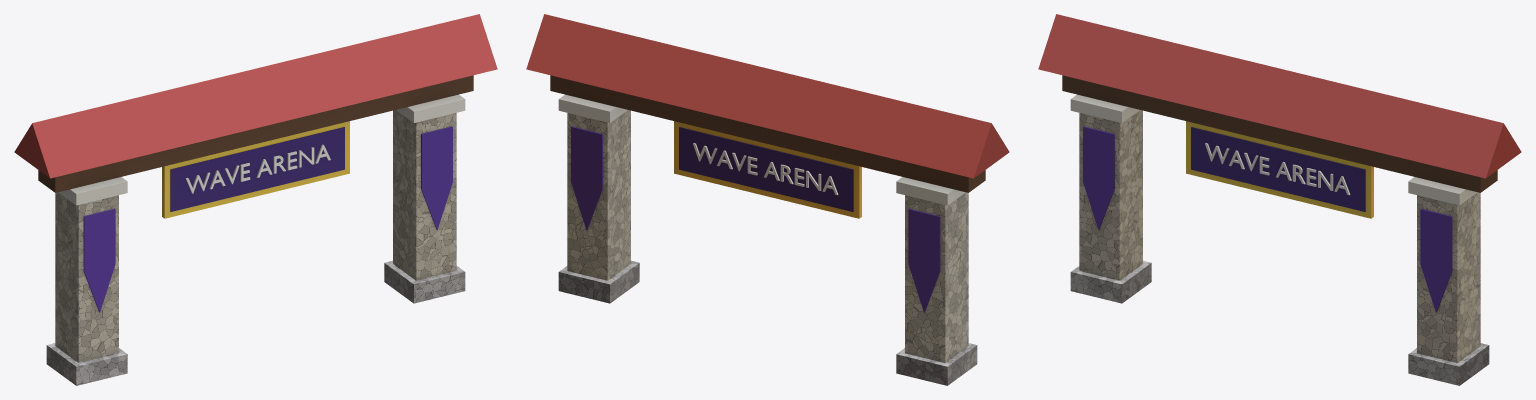
File: hub_gate_arena.fbx
3 renders of one model, left to right at view 1: azimuth 30°, elevation 25°; view 2: azimuth 150°, elevation 25°; view 3: azimuth 330°, elevation 25°, orthographic.
Parts seen in each view (by area): view 1: hub_gate_arena_body; view 2: hub_gate_arena_body; view 3: hub_gate_arena_body.
Boxes of the visible parts, x1,y1,x2,y2 form: hub_gate_arena_body: (14,14,497,385); hub_gate_arena_body: (526,14,1009,385); hub_gate_arena_body: (1038,14,1521,385).
Size of the model in its own units: 2440 by 1350 by 340.
2 materials, 1 textured.
